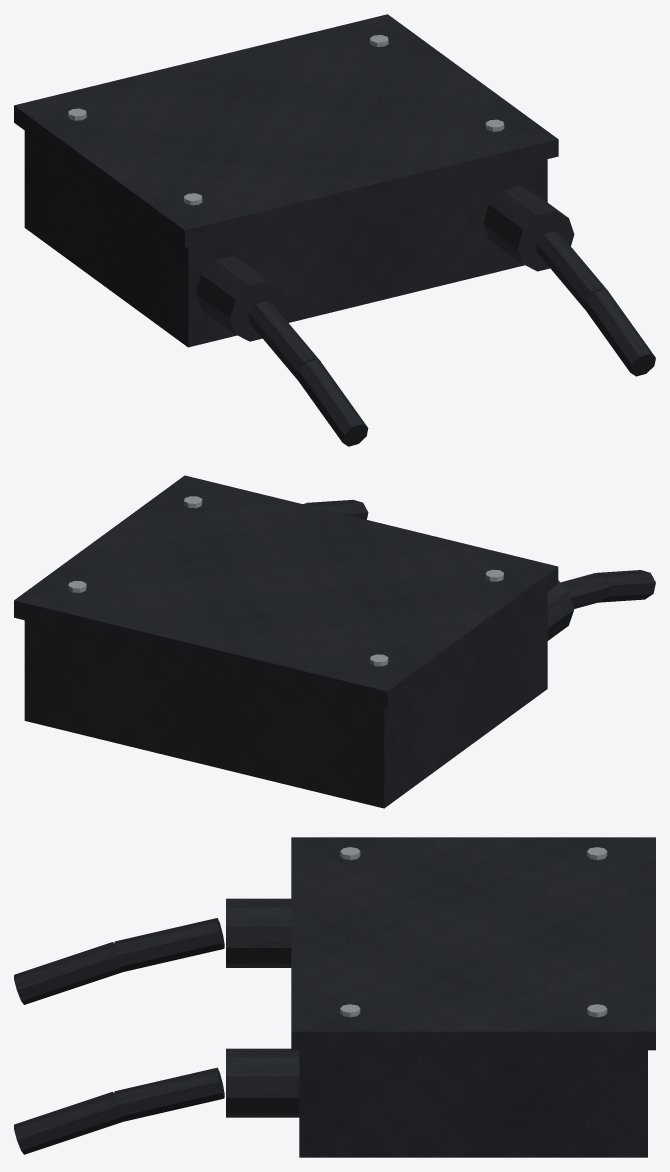
The model's file is PZ_HelioVale_HX180_CableJunction.glb.
The picture shows the model from 3 angles, top to bottom: view 1: azimuth 30°, elevation 25°; view 2: azimuth 150°, elevation 25°; view 3: azimuth 270°, elevation 25°; orthographic projection. The views are drawn at different scales.
Parts seen in each view (by area): view 1: HX180_JunctionLid, HX180_IP65_JunctionCase, HX180_Gland_R, HX180_Gland_L, HX180_DCLead_L_B, HX180_DCLead_R_B, HX180_DCLead_L_A, HX180_DCLead_R_A; view 2: HX180_JunctionLid, HX180_IP65_JunctionCase, HX180_DCLead_L_B, HX180_DCLead_L_A, HX180_Gland_L, HX180_DCLead_R_B; view 3: HX180_JunctionLid, HX180_IP65_JunctionCase, HX180_Gland_R, HX180_Gland_L, HX180_DCLead_R_A, HX180_DCLead_L_A, HX180_DCLead_L_B, HX180_DCLead_R_B.
Boxes of the visible parts, x1,y1,x2,y2 form: HX180_JunctionLid: [14, 14, 558, 247]; HX180_IP65_JunctionCase: [24, 131, 547, 347]; HX180_Gland_R: [483, 186, 574, 271]; HX180_Gland_L: [196, 256, 286, 341]; HX180_DCLead_L_B: [296, 359, 368, 446]; HX180_DCLead_R_B: [584, 289, 655, 376]; HX180_DCLead_L_A: [248, 301, 321, 378]; HX180_DCLead_R_A: [536, 231, 608, 308]; HX180_JunctionLid: [14, 475, 558, 708]; HX180_IP65_JunctionCase: [24, 592, 547, 808]; HX180_DCLead_L_B: [596, 570, 655, 602]; HX180_DCLead_L_A: [560, 573, 609, 608]; HX180_Gland_L: [547, 580, 574, 640]; HX180_DCLead_R_B: [307, 500, 368, 519]; HX180_JunctionLid: [291, 837, 655, 1050]; HX180_IP65_JunctionCase: [299, 1050, 647, 1157]; HX180_Gland_R: [226, 1048, 299, 1117]; HX180_Gland_L: [226, 898, 291, 967]; HX180_DCLead_R_A: [114, 1067, 224, 1122]; HX180_DCLead_L_A: [114, 918, 224, 972]; HX180_DCLead_L_B: [14, 942, 121, 1004]; HX180_DCLead_R_B: [14, 1091, 121, 1154].
Bounding box in the file's own units: 0.317 × 0.1122 × 0.4421.
Materials: 2 (2 with a texture image).
